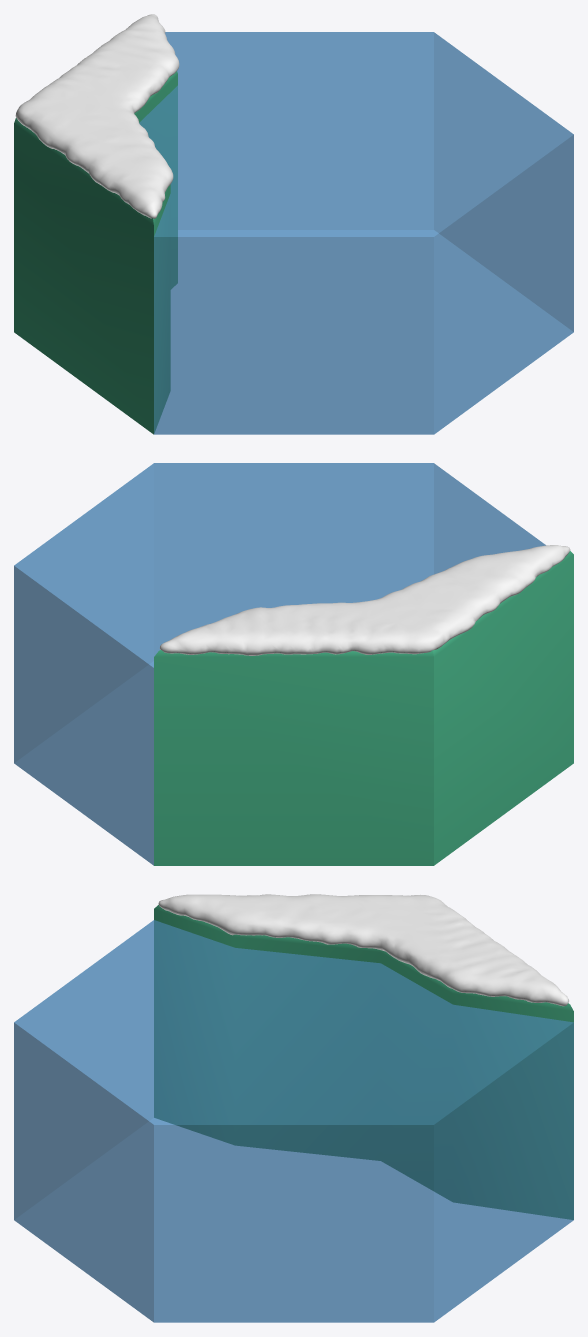
File: hex_forest_waterA.fbx
3 renders of one model, top to bottom at view 1: azimuth 30°, elevation 25°; view 2: azimuth 150°, elevation 25°; view 3: azimuth 270°, elevation 25°, orthographic.
Parts seen in each view (by area): view 1: hex_forest_waterA, hex_forest_waterA.001, SnowBall.001; view 2: hex_forest_waterA.001, hex_forest_waterA, SnowBall.001; view 3: hex_forest_waterA, hex_forest_waterA.001, SnowBall.001.
Part boxes in pixels (x1,y1,x2,y2): hex_forest_waterA: (139,32,573,434); hex_forest_waterA.001: (14,71,177,434); SnowBall.001: (15,14,179,218); hex_forest_waterA.001: (154,551,573,865); hex_forest_waterA: (14,463,545,865); SnowBall.001: (159,545,570,655); hex_forest_waterA: (14,920,573,1322); hex_forest_waterA.001: (154,905,573,1219); SnowBall.001: (158,894,568,1006).
Size of the model in its own units: 202 by 104 by 231.
